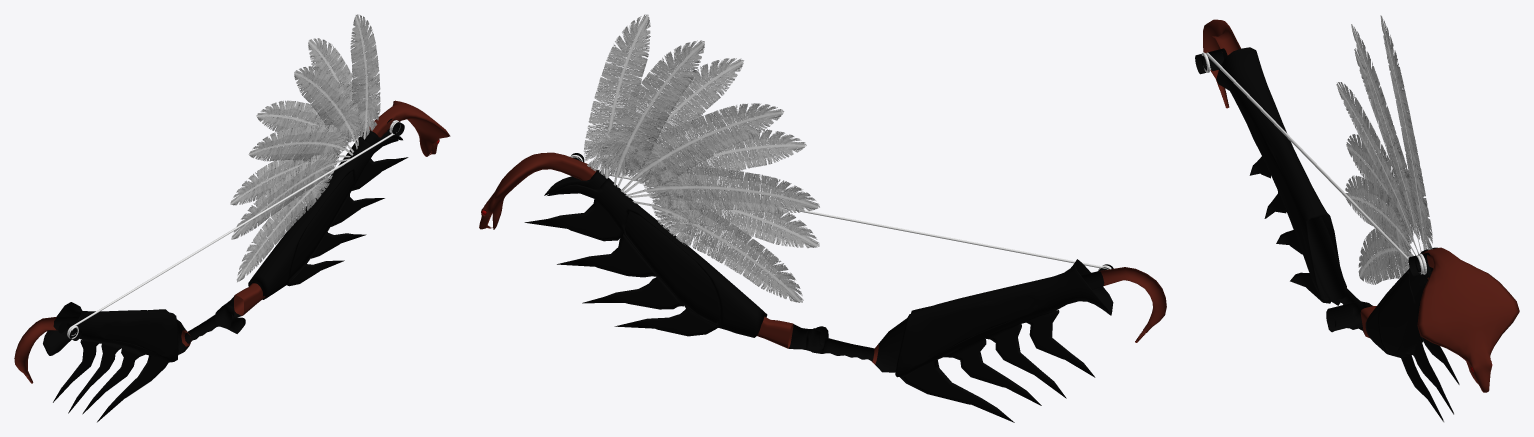
Rendered from bow (3).dae.
3 views of the same model, side by side, from view 1: azimuth 30°, elevation 25°; view 2: azimuth 150°, elevation 25°; view 3: azimuth 270°, elevation 25° (orthographic). The views are drawn at different scales.
Visible parts, largest first — view 1: Cube_001; view 2: Cube_001; view 3: Cube_001.
Boxes of the visible parts, <box> form: Cube_001: <box>14,14,450,422</box>; Cube_001: <box>479,14,1166,422</box>; Cube_001: <box>1195,15,1519,421</box>.
Size of the model in its own units: 88.71 by 33.19 by 51.84.
5 materials, 3 textured.
